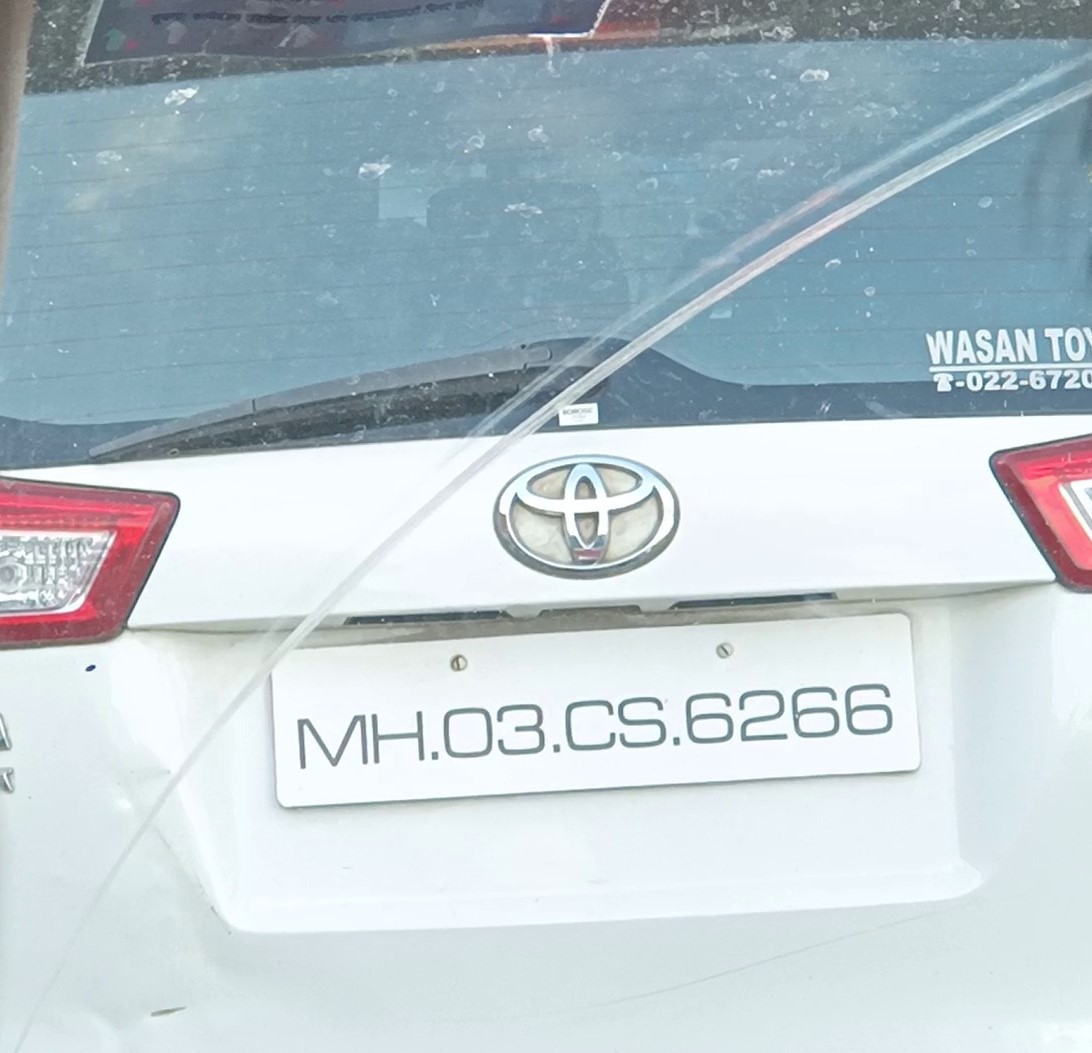MH03CS6266: (266, 610, 926, 806)
